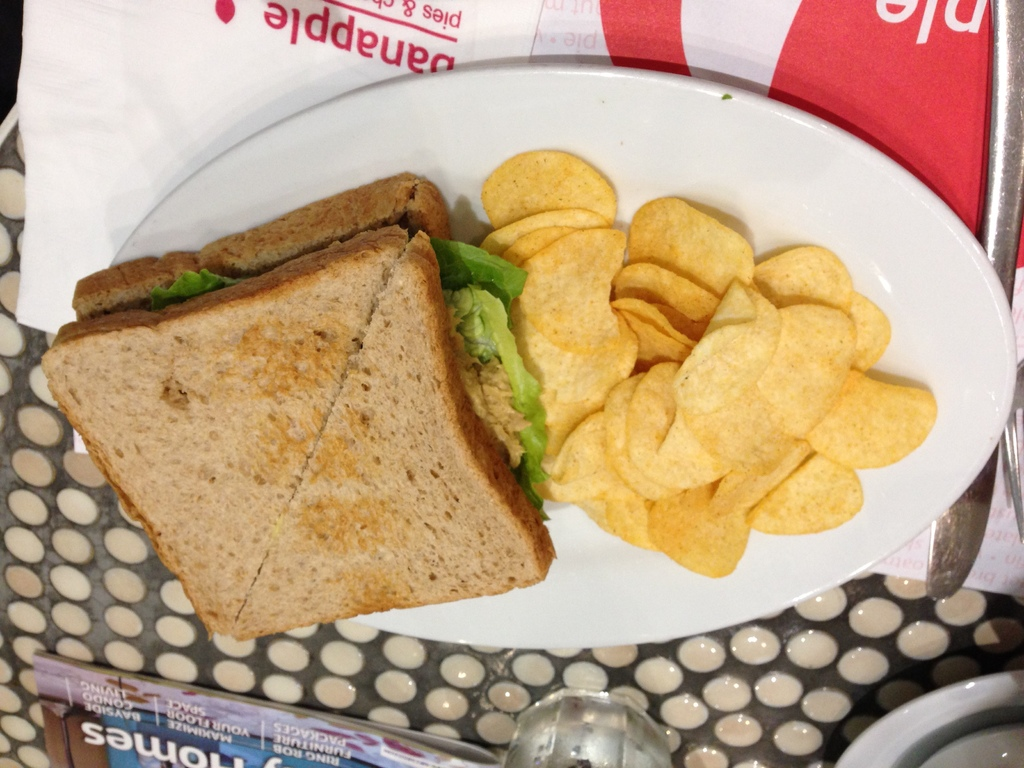sandwich: (36, 172, 558, 642)
